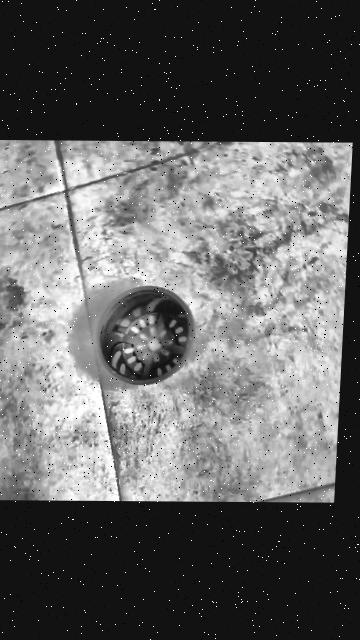pot: (94, 286, 194, 386)
